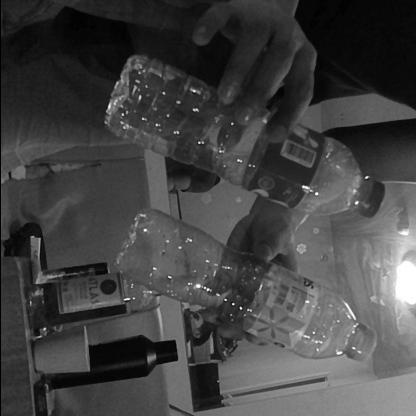plastic_bottles: (105, 59, 387, 222), (118, 202, 377, 364)
